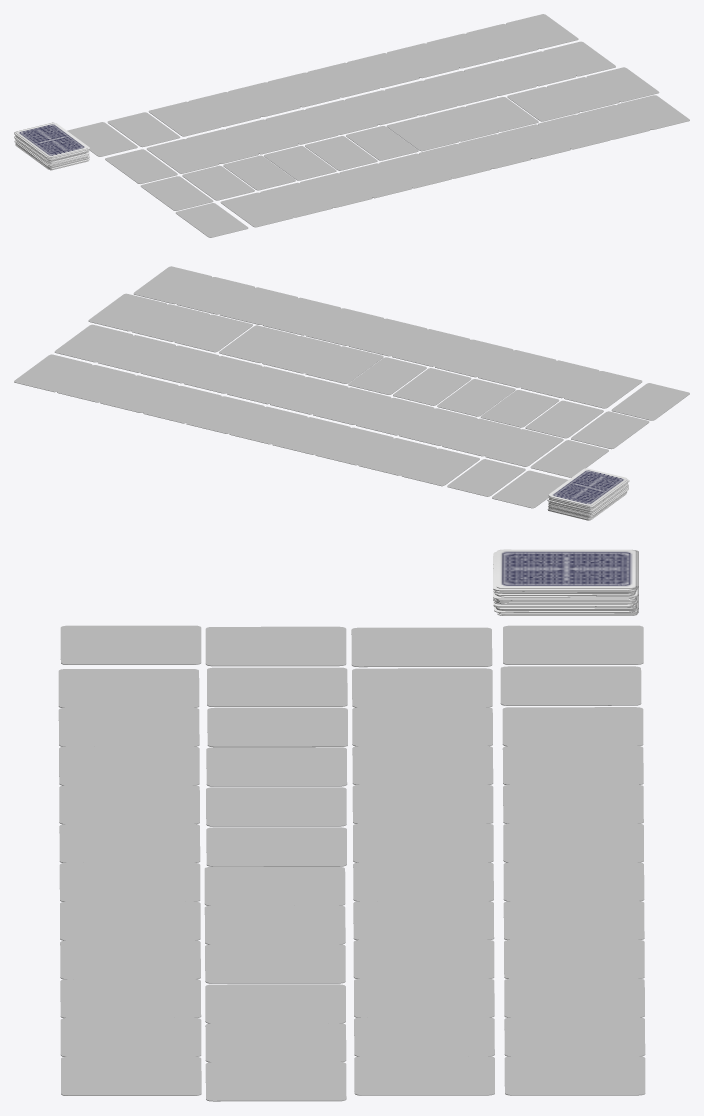
File: cartas.fbx
The picture shows the model from 3 angles, top to bottom: view 1: azimuth 30°, elevation 25°; view 2: azimuth 150°, elevation 25°; view 3: azimuth 270°, elevation 25°; orthographic projection. The views are drawn at different scales.
Parts seen in each view (by area): view 1: Plane.067, Plane.041, Plane.042, Plane.045, Plane.050, Plane.078, Plane.047, Plane.049, Plane.068, Plane.046, Plane.056, Plane.043 (+37 smaller); view 2: Plane.068, Plane.042, Plane.045, Plane.048, Plane.050, Plane.046, Plane.047, Plane.049, Plane.053, Plane.056, Plane.067, Plane.041 (+37 smaller); view 3: Plane.042, Plane.046, Plane.040, Plane.067, Plane.041, Plane.077, Plane.050, Plane.043, Plane.055, Plane.051, Plane.079, Plane.047 (+37 smaller).
Boxes of the visible parts, x1,y1,x2,y2 form: Plane.067: (107,112,180,147); Plane.041: (175,203,248,237); Plane.042: (140,176,213,210); Plane.045: (182,165,254,200); Plane.050: (386,116,459,151); Plane.078: (220,192,293,227); Plane.047: (264,146,336,180); Plane.049: (346,126,418,160); Plane.068: (148,101,221,136); Plane.046: (223,155,295,190); Plane.056: (146,139,219,173); Plane.043: (105,149,177,183); Plane.068: (401,448,479,486); Plane.042: (571,411,649,449); Plane.045: (525,400,603,438); Plane.048: (393,368,471,405); Plane.050: (305,346,383,383); Plane.046: (480,390,559,427); Plane.047: (437,379,515,416); Plane.049: (348,357,426,394); Plane.053: (174,314,252,352); Plane.056: (485,429,563,466); Plane.067: (447,459,525,496); Plane.041: (611,383,689,420); Plane.042: (205,626,346,666); Plane.046: (207,707,347,747); Plane.040: (496,549,637,588); Plane.067: (500,666,641,705); Plane.041: (60,625,201,664); Plane.077: (504,1056,645,1095); Plane.050: (204,866,345,905); Plane.043: (351,627,492,667); Plane.055: (205,1062,346,1101); Plane.051: (204,905,345,944); Plane.079: (58,707,199,746); Plane.047: (206,747,347,786).
Size of the model in its own units: 84.19 by 2 by 39.66.
